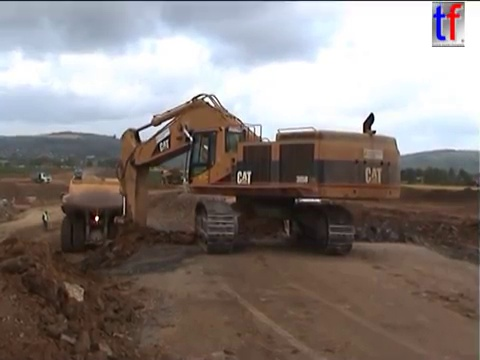excavator: (79, 91, 404, 287)
truck: (58, 173, 132, 253), (157, 166, 186, 186), (29, 170, 53, 185)
worker: (40, 208, 50, 232)
